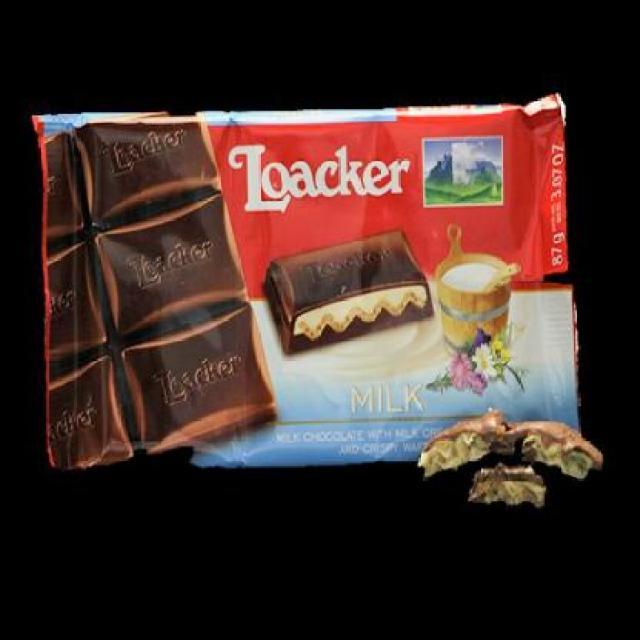Chocolate bar: (31, 91, 578, 468)
Chocolate bar packaged: (264, 231, 432, 344), (508, 419, 600, 481)
